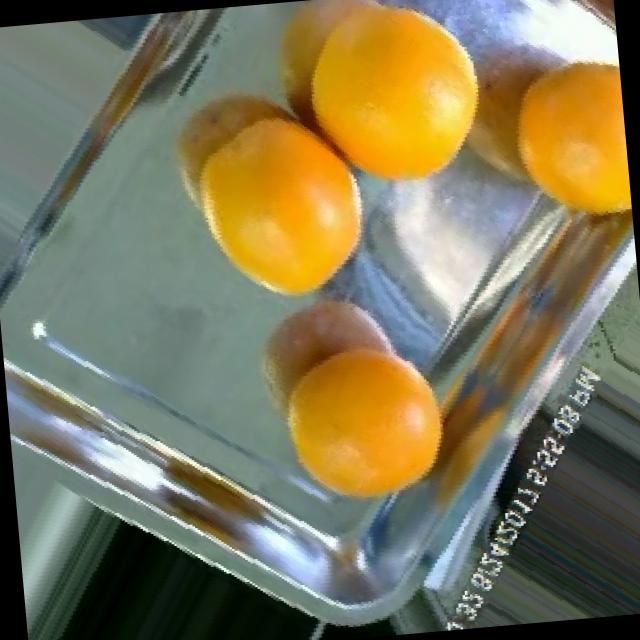Fruit: (158, 95, 404, 328), (228, 270, 433, 493), (15, 492, 222, 640)
